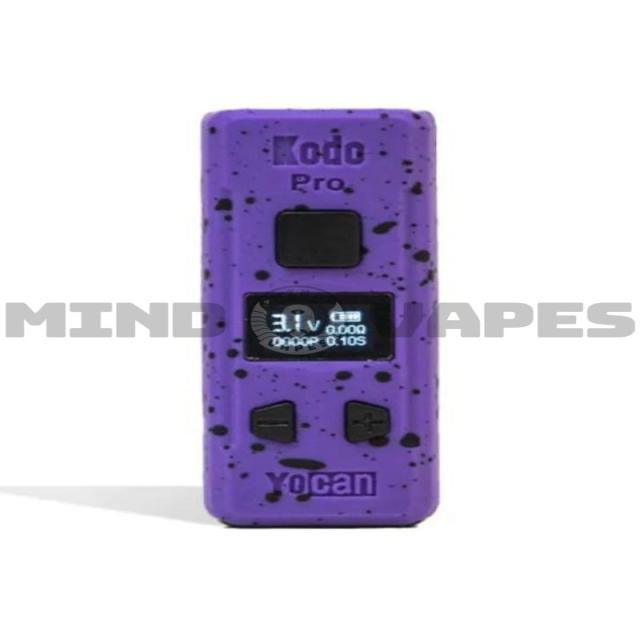Vapes: (198, 107, 440, 528)
